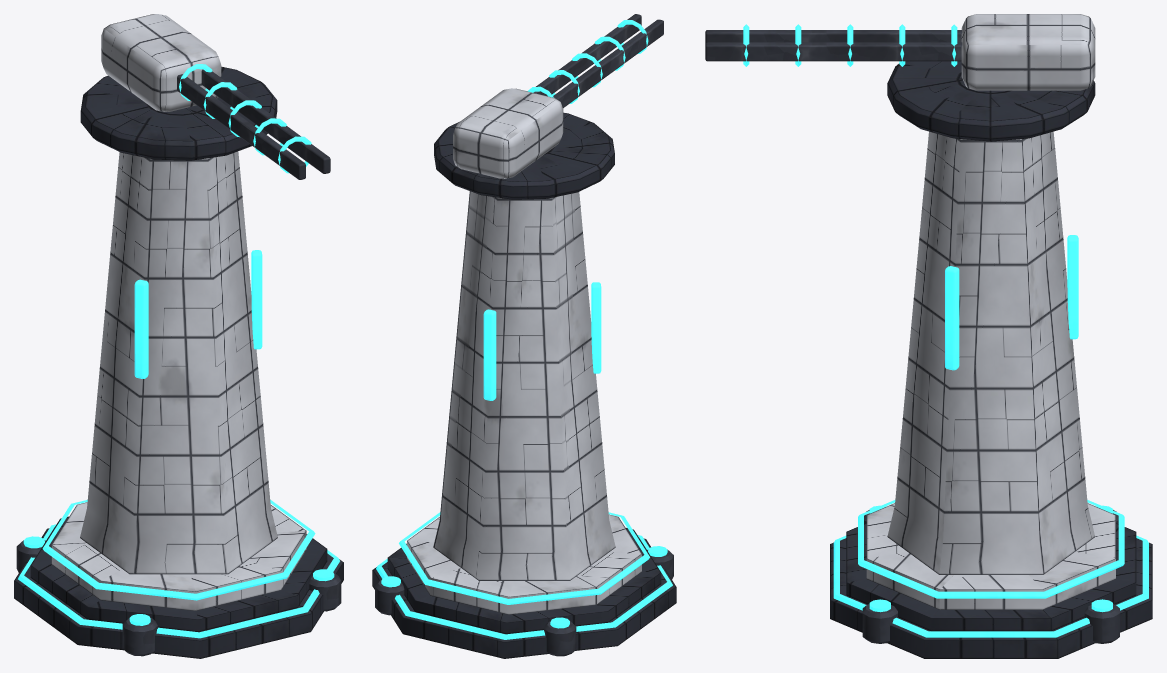
File: sf_falcon.glb
3 views of the same model, side by side, from view 1: azimuth 30°, elevation 25°; view 2: azimuth 150°, elevation 25°; view 3: azimuth 270°, elevation 25° (orthographic). The views are drawn at different scales.
Visible parts, largest first — view 1: Base, Turret; view 2: Base, Turret; view 3: Base, Turret.
Boxes of the visible parts, bbox=[...] form: Base: bbox=[14, 66, 343, 658]; Turret: bbox=[101, 14, 330, 179]; Base: bbox=[372, 112, 676, 658]; Turret: bbox=[453, 14, 663, 178]; Base: bbox=[830, 61, 1152, 658]; Turret: bbox=[705, 14, 1095, 90].
Bounding box in the file's own units: 0.8684 × 1.68 × 1.2.
4 materials, 4 textured.
